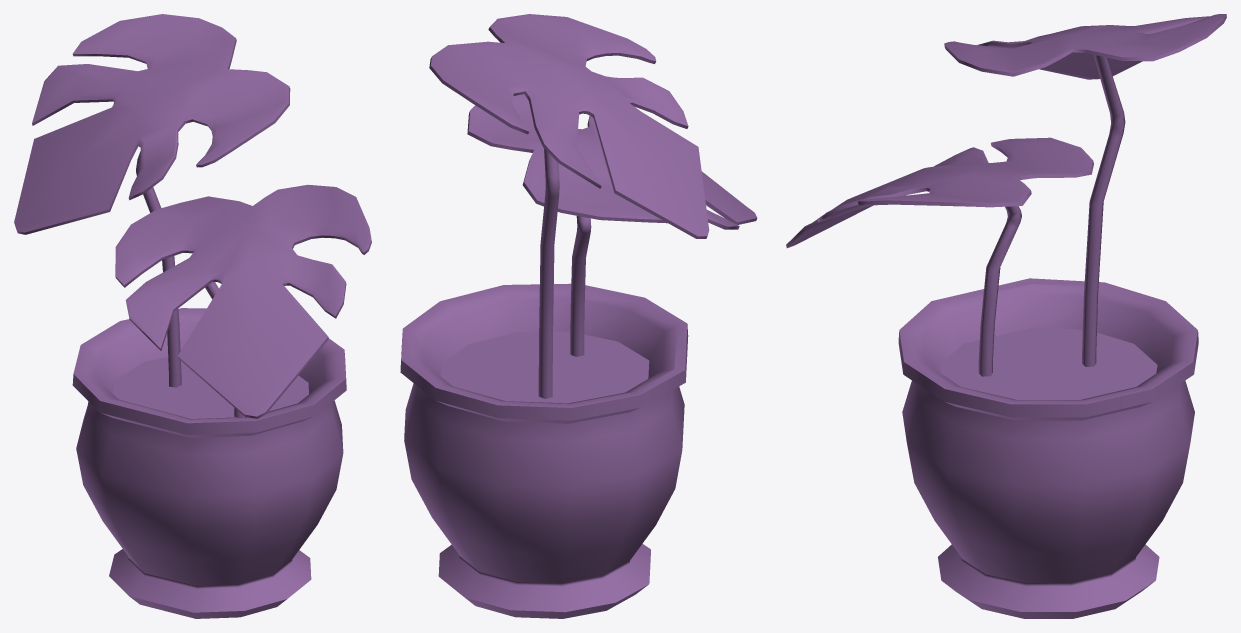
Rendered from plant_low.fbx.
3 renders of one model, left to right at view 1: azimuth 30°, elevation 25°; view 2: azimuth 150°, elevation 25°; view 3: azimuth 270°, elevation 25°, orthographic. The views are drawn at different scales.
Visible parts, largest first — view 1: plant_low; view 2: plant_low; view 3: plant_low.
Boxes of the visible parts, <box> form: plant_low: <box>14,14,371,618</box>; plant_low: <box>400,14,757,618</box>; plant_low: <box>786,14,1226,618</box>.
Bounding box in the file's own units: 111 × 187 × 134.
